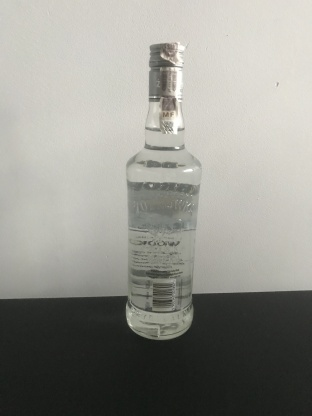nakretka: (146, 40, 186, 102)
